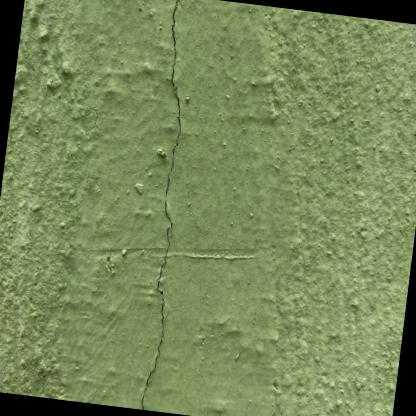crack: (141, 0, 181, 410)
